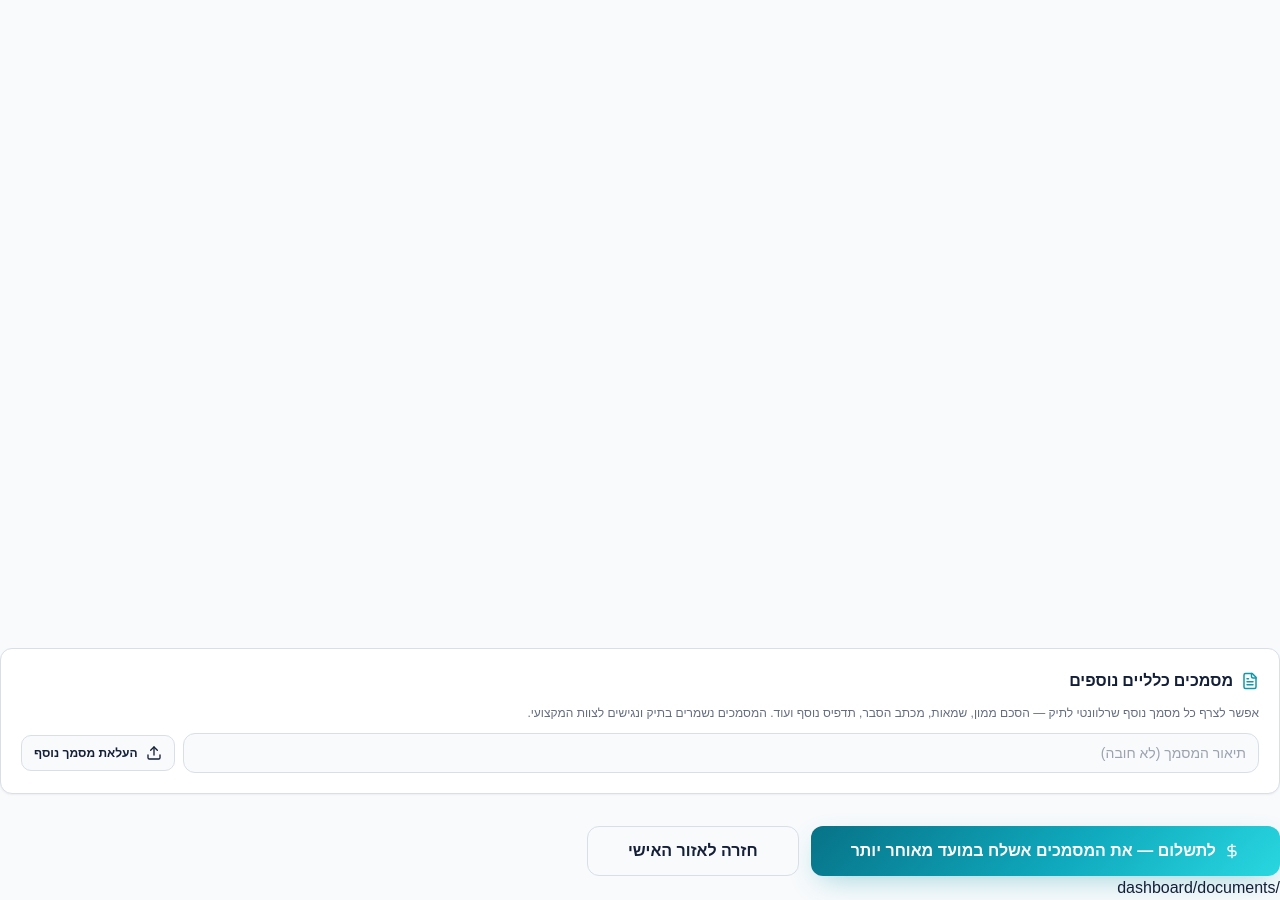
it: documents payment navigation › allows a completed questionnaire with zero documents to reach payment
(page scrolled)
What coordinates should you click on to do the following:
click the button "לתשלום — את המסמכים אשלח במועד מאוחר יותר"
I would click on:
 (1045, 851)
Its box is [811,826,1279,876].
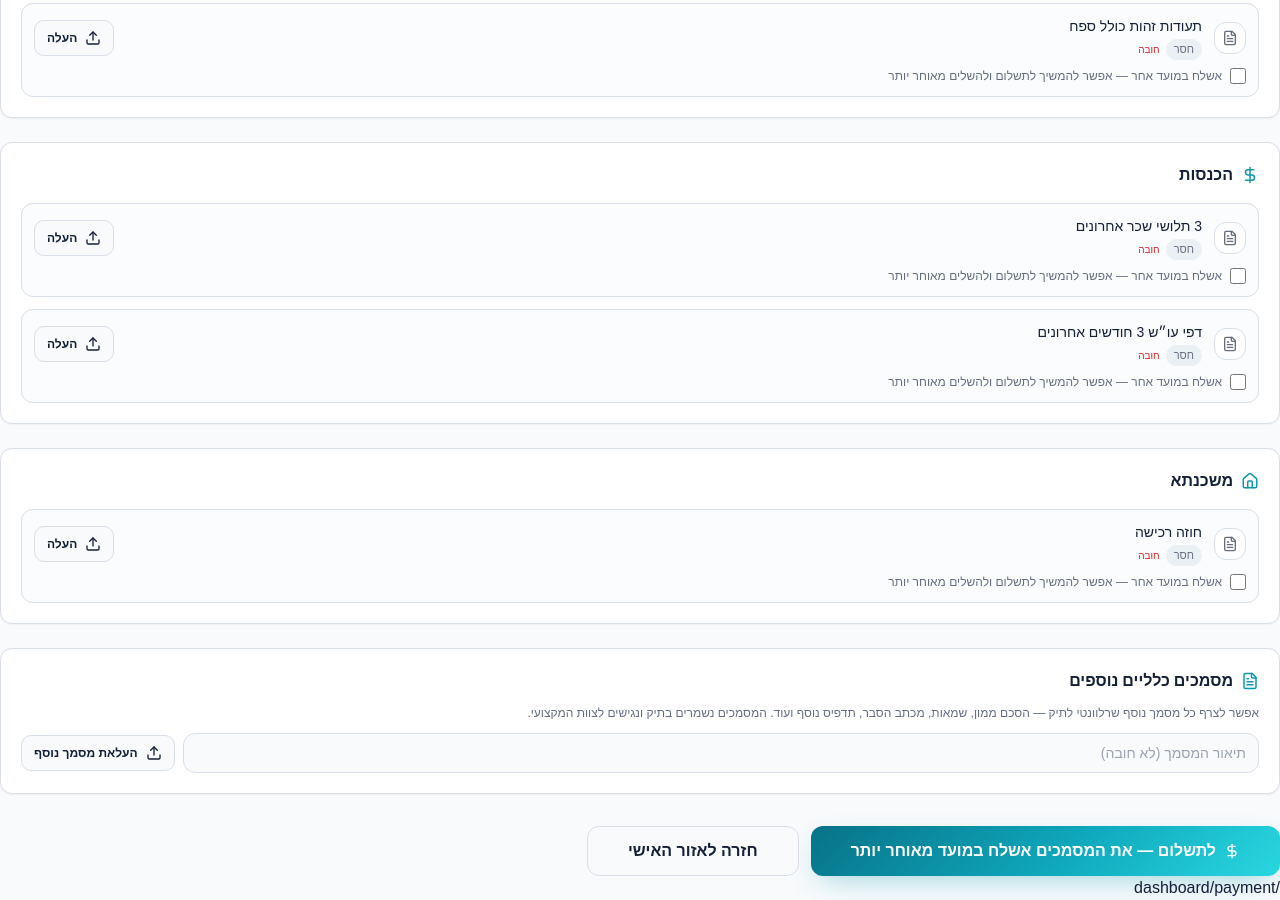
Expected: the text with test id "location" reads "/dashboard/payment", [1134,879,1279,896]
